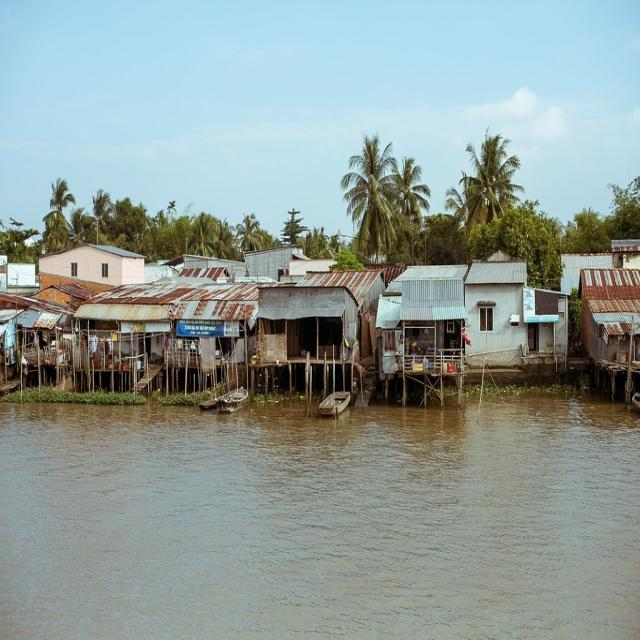Hyacinth: (0, 388, 142, 404), (153, 392, 205, 406), (256, 390, 285, 404)
boat: (320, 387, 352, 419), (216, 386, 254, 412)
